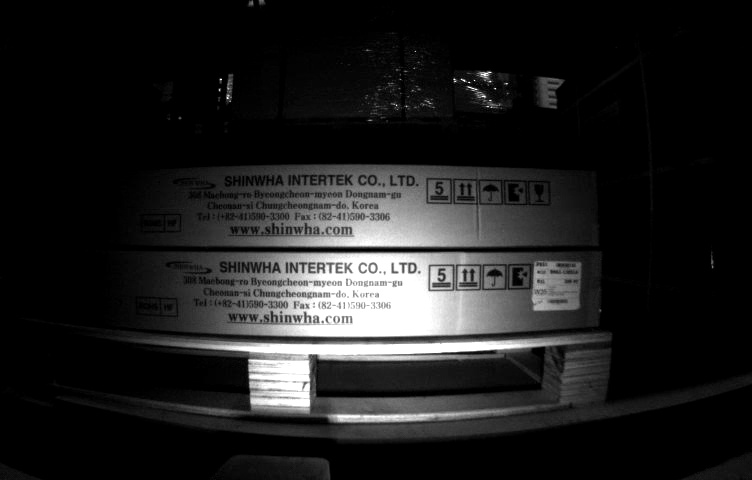True Barcode: (536, 261, 580, 310)
